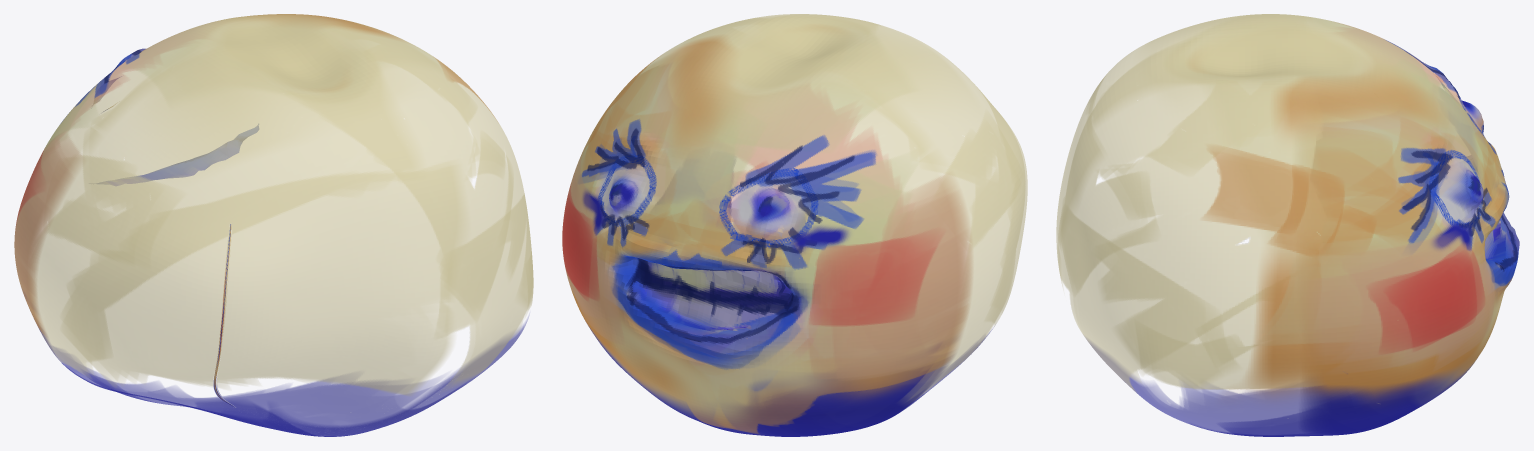
File: bbh.gltf
3 views of the same model, side by side, from view 1: azimuth 30°, elevation 25°; view 2: azimuth 150°, elevation 25°; view 3: azimuth 270°, elevation 25° (orthographic). The views are drawn at different scales.
Parts seen in each view (by area): view 1: Cube.003; view 2: Cube.003; view 3: Cube.003.
Part boxes in pixels (x1,y1,x2,y2): Cube.003: (14, 14, 533, 436); Cube.003: (562, 14, 1027, 436); Cube.003: (1056, 14, 1519, 436).
Size of the model in its own units: 1.65 by 1.36 by 1.6.
1 material, 1 textured.
